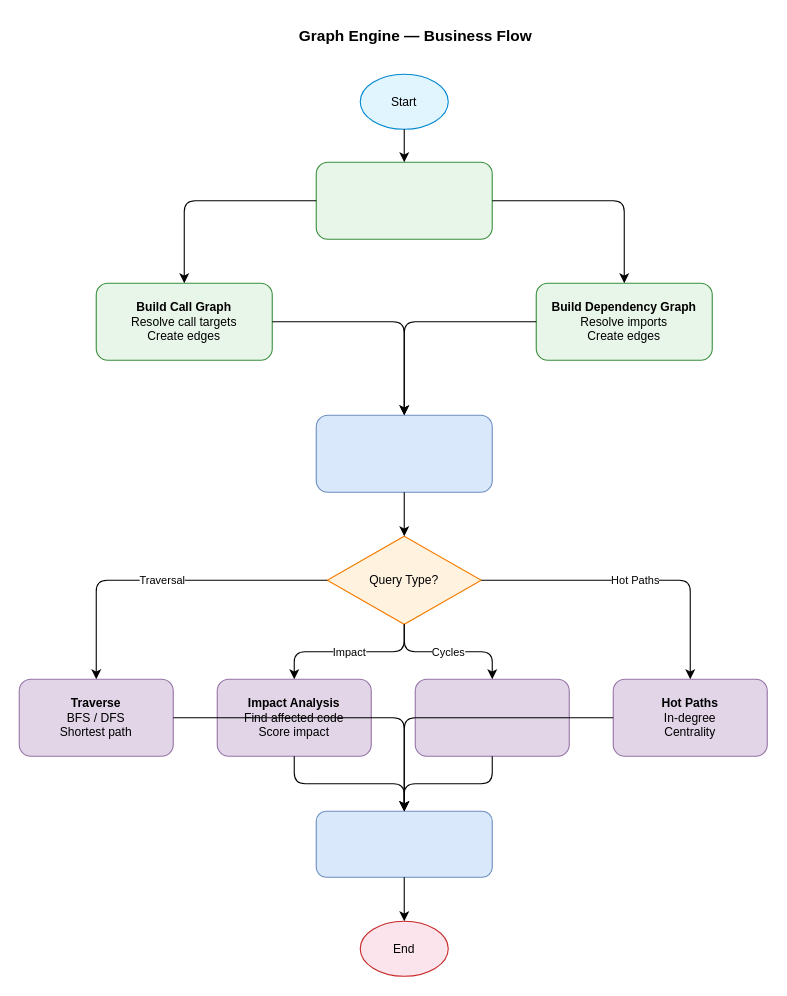
This 787x996 diagram has some shape labels left out. Here are the shapes that lost their labels. From the top down, the box of each, then its label:
(315, 161, 492, 239): Receive AST & Symbol Data (from KSA-172)
(315, 414, 492, 492): Index Graph Node/edge lookup by file, symbol, module
(414, 678, 569, 756): Cycle Detection Circular deps Recursive calls
(315, 810, 492, 877): Return Results via MCP Tools
